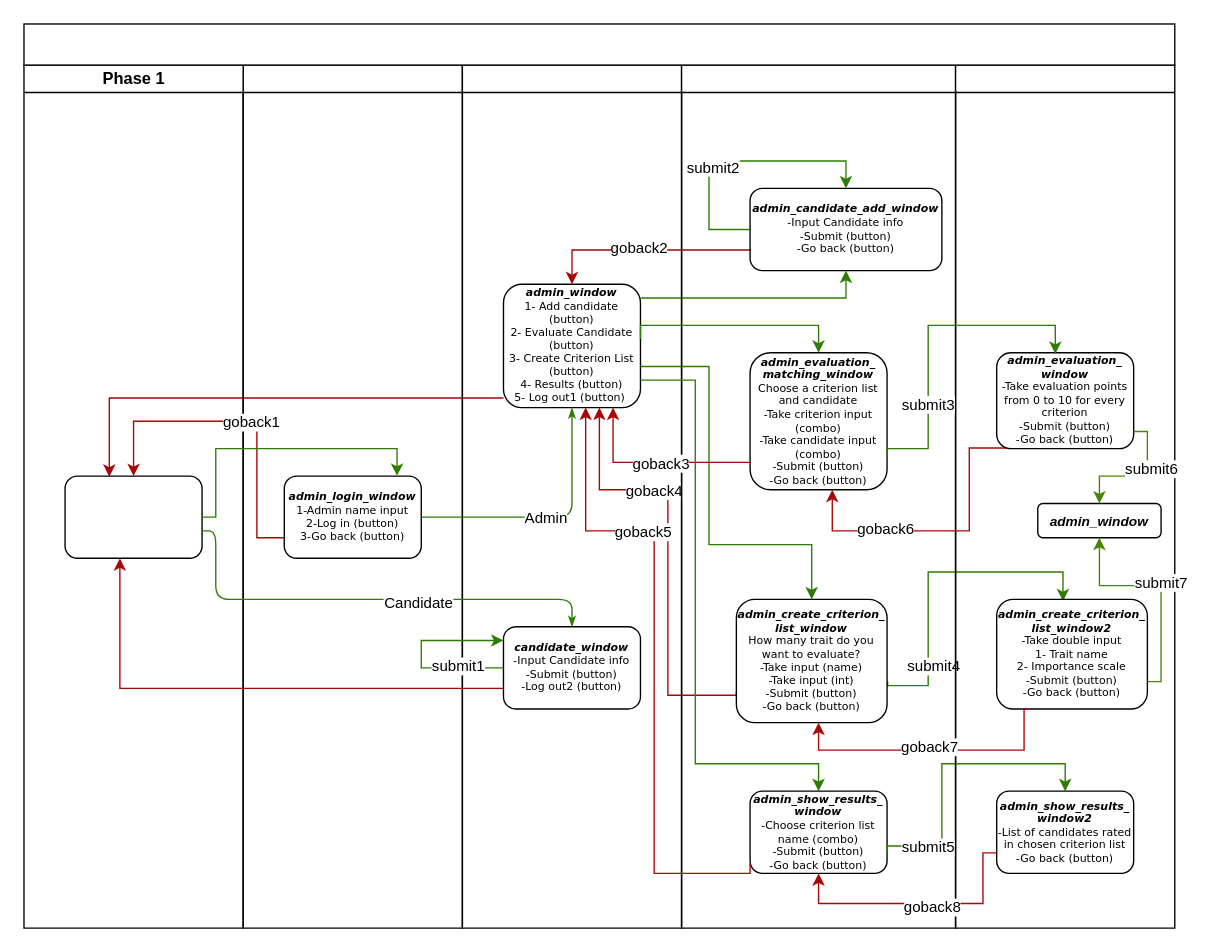
Some shapes in this 1211 by 952 pixel diagram are drawn without their labels. The shapes that lost their labels are listed below. From the top down, each one's box as (x1, y1, x2, y2) in pixels, then its label:
(23, 23, 1175, 65): Application Map
(242, 64, 462, 928): Phase 2
(461, 64, 682, 928): Phase 3
(680, 64, 956, 928): Phase 4
(954, 64, 1175, 928): Phase 5
(64, 475, 202, 558): initial_window 1-Admin (button) 2-Candidate (button)
